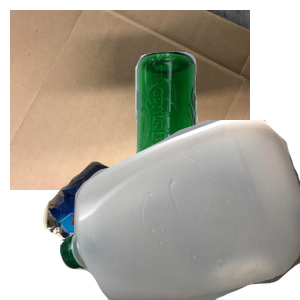cardboard: (10, 10, 250, 190)
glass: (129, 49, 300, 229)
plastic: (60, 120, 300, 300)
trash: (40, 158, 245, 300)
